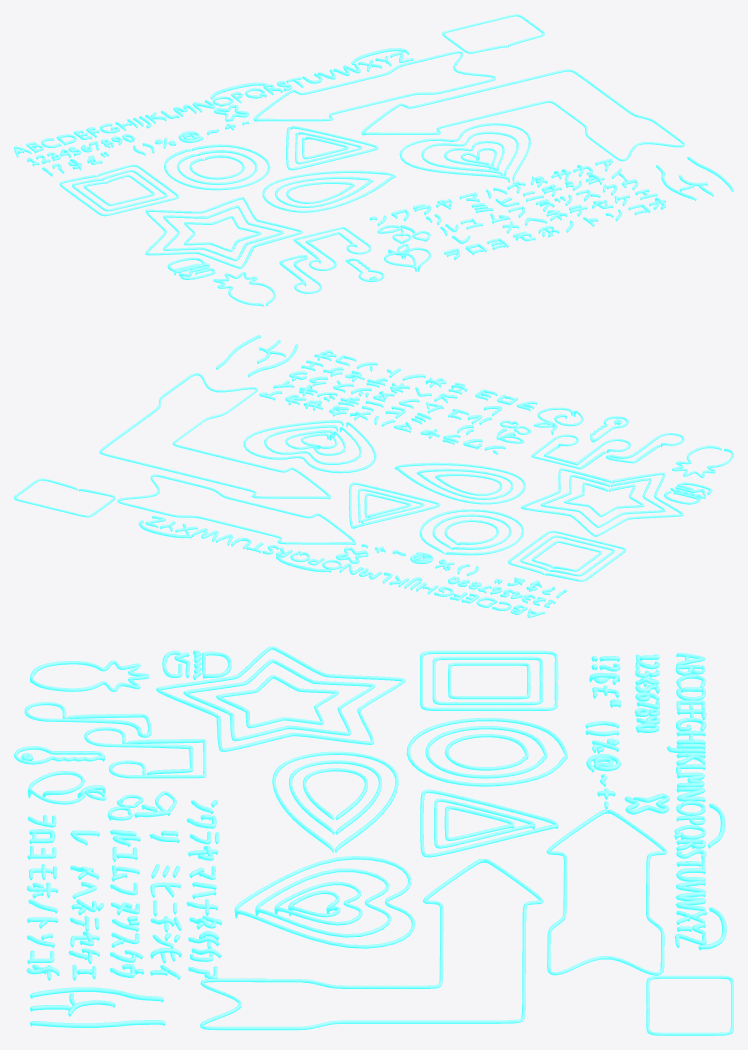
File: neon.fbx
3 renders of one model, top to bottom at view 1: azimuth 30°, elevation 25°; view 2: azimuth 150°, elevation 25°; view 3: azimuth 270°, elevation 25°, orthographic. The views are drawn at different scales.
Visible parts, largest first — view 1: neon_arrow_90deg, neon_arrow, neon_star, neon_star.001, neon_heart, neon_teardrop, neon_musical_note, neon_square, neon_circle, neon_heart.001, neon_triangle, neon_bottom (+7 smaller); view 2: neon_arrow_90deg, neon_arrow, neon_star, neon_star.001, neon_heart, neon_musical_note, neon_teardrop, neon_square, neon_circle, neon_triangle, neon_heart.001, neon_bottom (+9 smaller); view 3: neon_arrow_90deg, neon_star, neon_arrow, neon_musical_note, neon_bottom, neon_heart, neon_star.001, neon_circle, neon_heart.001, neon_square, neon_triangle, neon_teardrop (+18 smaller).
Part boxes in pixels (left/top/right/bottom): neon_arrow_90deg: left=361, top=69, right=684, bottom=161; neon_arrow: left=253, top=51, right=495, bottom=121; neon_star: left=145, top=197, right=302, bottom=268; neon_star.001: left=163, top=205, right=283, bottom=261; neon_heart: left=399, top=123, right=531, bottom=182; neon_teardrop: left=262, top=170, right=395, bottom=212; neon_musical_note: left=293, top=226, right=371, bottom=270; neon_square: left=59, top=164, right=178, bottom=216; neon_circle: left=164, top=144, right=270, bottom=190; neon_heart.001: left=421, top=131, right=518, bottom=175; neon_triangle: left=286, top=126, right=378, bottom=170; neon_bottom: left=656, top=157, right=733, bottom=200; neon_arrow_90deg: left=99, top=373, right=330, bottom=499; neon_arrow: left=117, top=474, right=356, bottom=544; neon_star: left=520, top=468, right=683, bottom=536; neon_star.001: left=540, top=474, right=665, bottom=527; neon_heart: left=243, top=420, right=376, bottom=473; neon_musical_note: left=531, top=434, right=630, bottom=469; neon_teardrop: left=394, top=462, right=525, bottom=504; neon_square: left=508, top=530, right=626, bottom=581; neon_circle: left=419, top=509, right=523, bottom=555; neon_triangle: left=349, top=482, right=440, bottom=528; neon_heart.001: left=264, top=425, right=361, bottom=464; neon_bottom: left=216, top=335, right=298, bottom=377; neon_arrow_90deg: left=200, top=859, right=543, bottom=1030; neon_star: left=156, top=646, right=405, bottom=751; neon_arrow: left=546, top=809, right=667, bottom=975; neon_musical_note: left=84, top=727, right=206, bottom=778; neon_bottom: left=30, top=987, right=165, bottom=1027; neon_heart: left=234, top=856, right=415, bottom=948; neon_star.001: left=183, top=659, right=375, bottom=741; neon_circle: left=406, top=717, right=567, bottom=786; neon_heart.001: left=255, top=868, right=391, bottom=937; neon_square: left=420, top=650, right=558, bottom=710; neon_triangle: left=420, top=789, right=558, bottom=857; neon_teardrop: left=272, top=751, right=398, bottom=852.
Size of the model in its own units: 27.18 by 0.4479 by 21.33.
